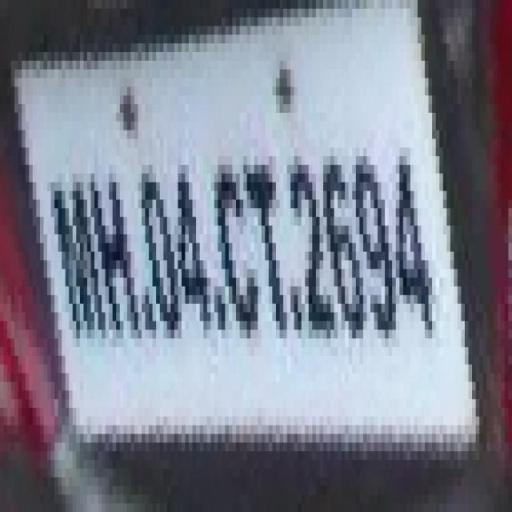number plate: (18, 26, 472, 468)
